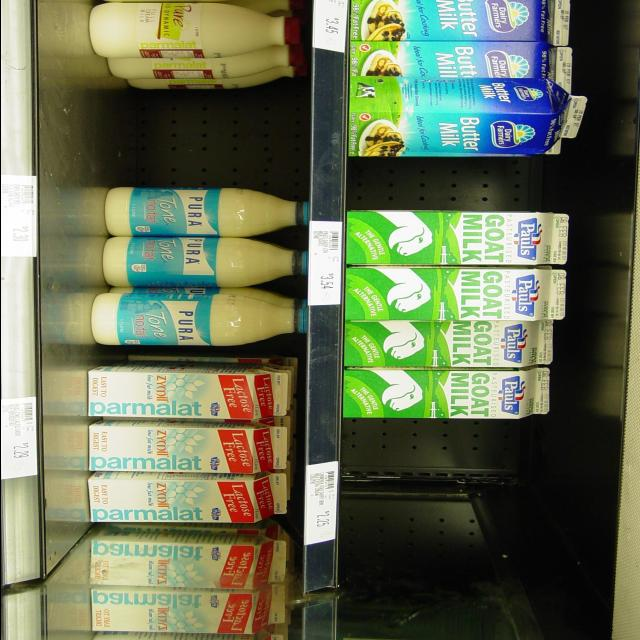empty_space: (336, 420, 548, 616), (36, 4, 88, 640), (99, 83, 305, 187), (348, 161, 568, 211)
